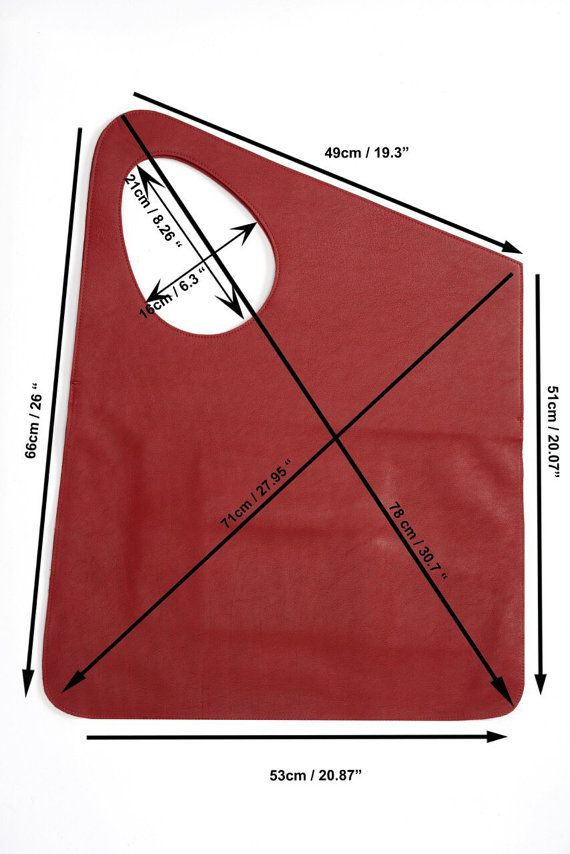cuero: (42, 110, 528, 721)
